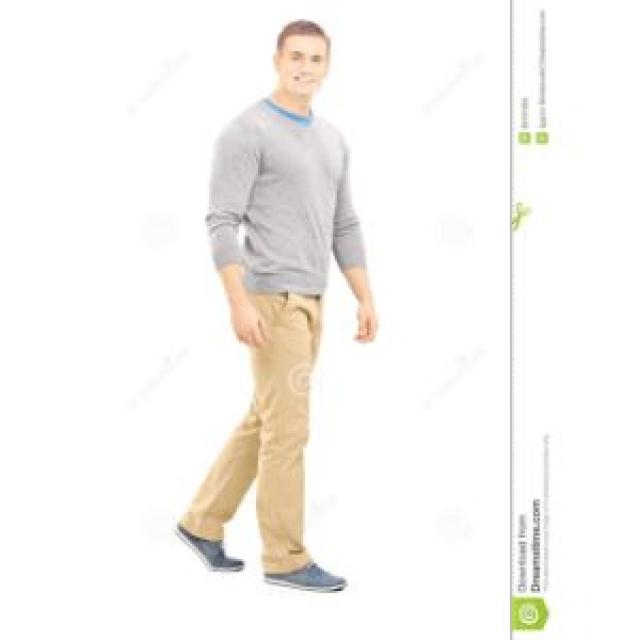nonfall: (186, 23, 384, 584)
